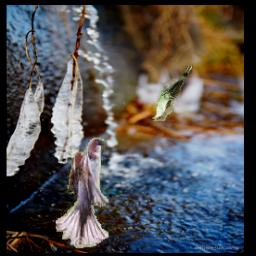Cuckoo: (152, 65, 193, 121)
Sparrow: (55, 138, 108, 248)
